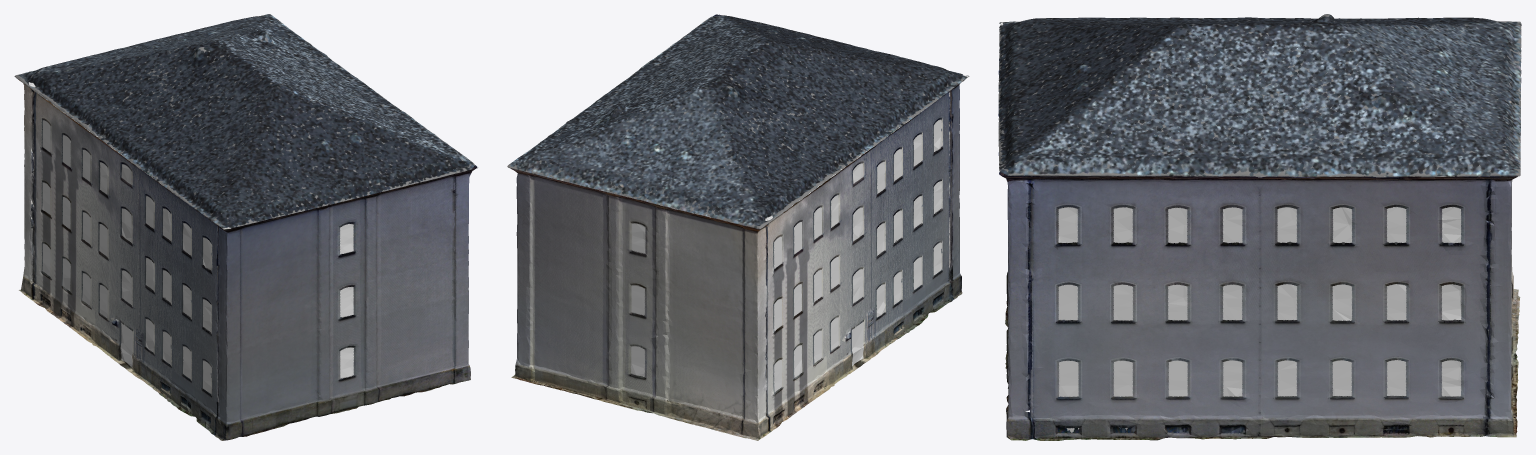
The model's file is 2025-12-11_Gebaeude_reduziert.glb.
The picture shows the model from 3 angles, left to right: view 1: azimuth 30°, elevation 25°; view 2: azimuth 150°, elevation 25°; view 3: azimuth 270°, elevation 25°; orthographic projection. The views are drawn at different scales.
Bounding box in the file's own units: 14.61 × 15.01 × 20.79.
Materials: 3 (3 with a texture image).
